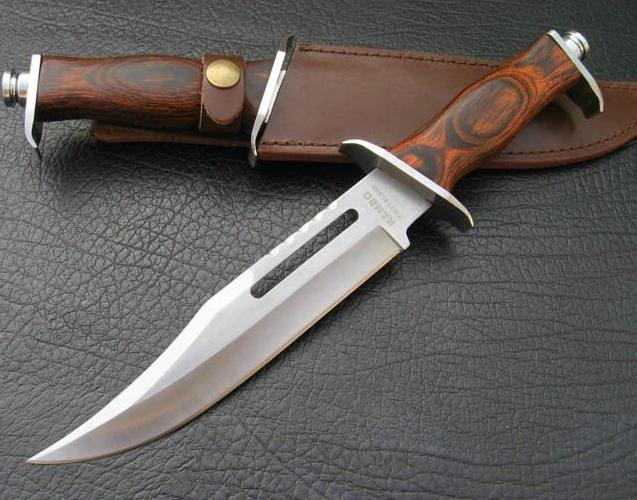knife: (22, 122, 495, 473)
